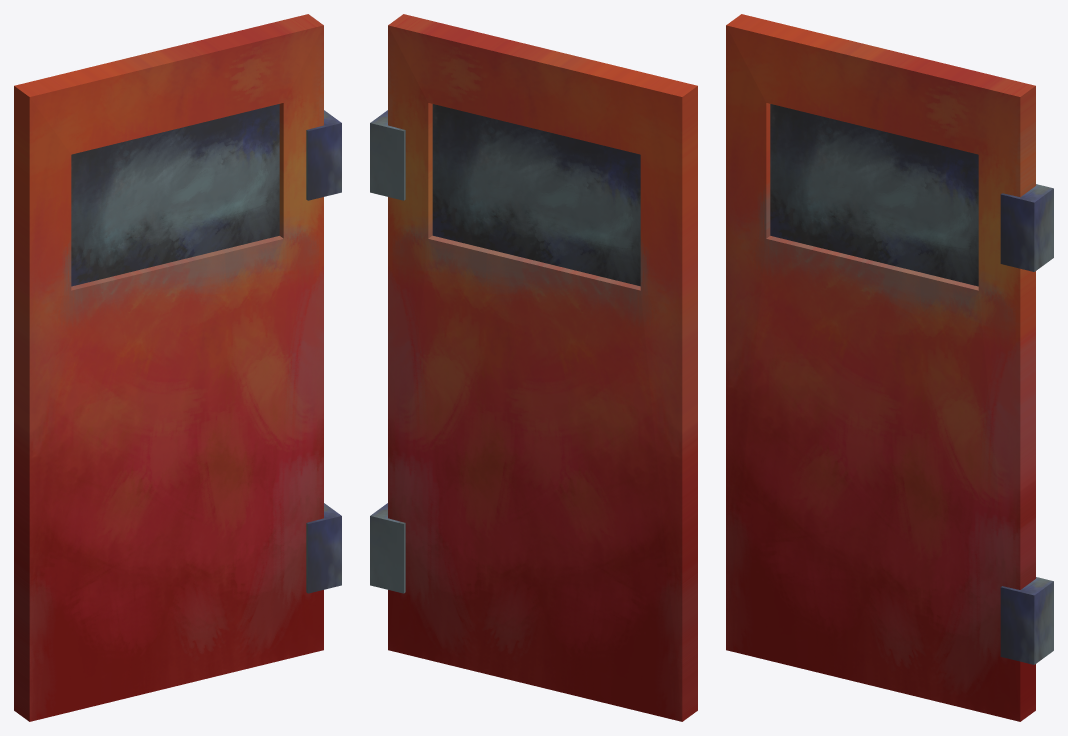
File: Porta.fbx
3 renders of one model, left to right at view 1: azimuth 30°, elevation 25°; view 2: azimuth 150°, elevation 25°; view 3: azimuth 330°, elevation 25°, orthographic.
Parts seen in each view (by area): view 1: Porta; view 2: Porta; view 3: Porta.
Part boxes in pixels (<box>): Porta: <box>14,14,341,721</box>; Porta: <box>370,14,697,721</box>; Porta: <box>726,14,1053,721</box>.
Size of the model in its own units: 104 by 200 by 11.31.
